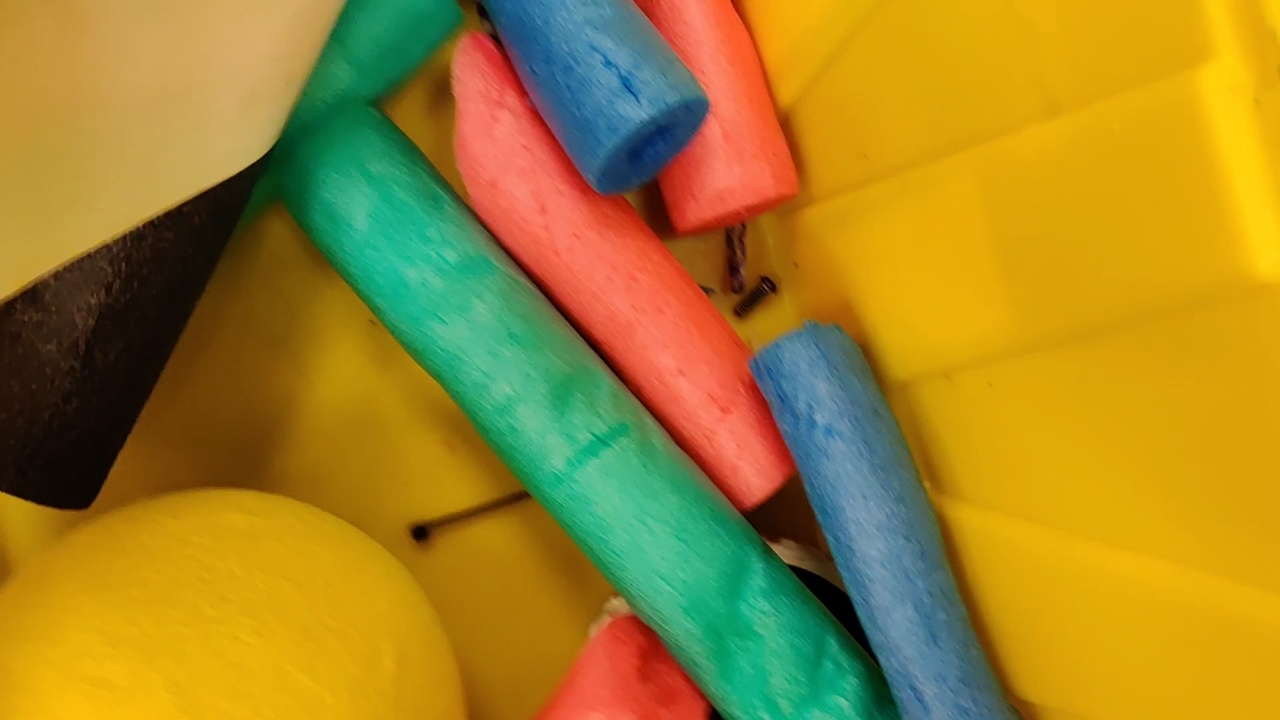Ball: (3, 486, 468, 720)
